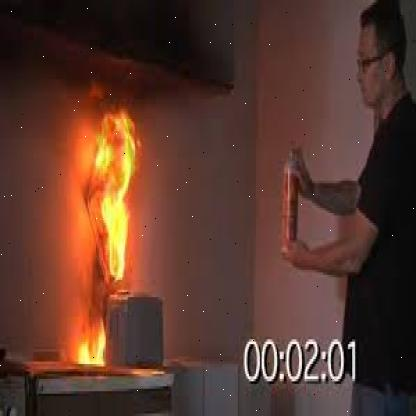fire: (61, 94, 146, 379)
